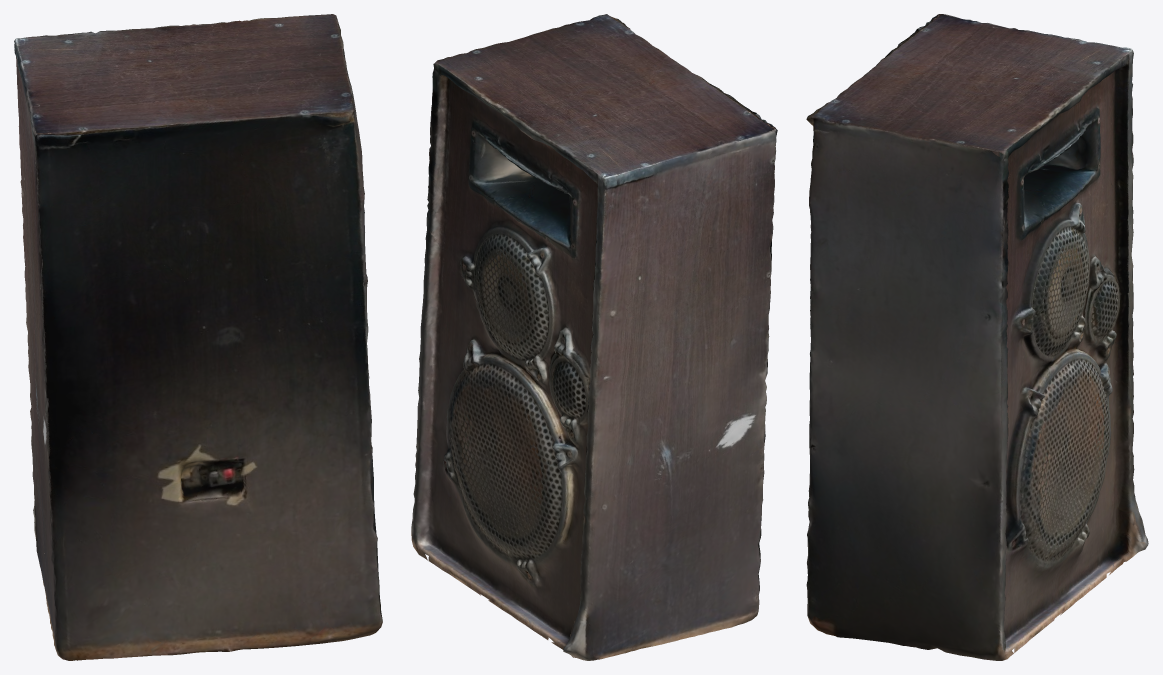
The model's file is equipolargobake.glb.
The picture shows the model from 3 angles, left to right: view 1: azimuth 30°, elevation 25°; view 2: azimuth 150°, elevation 25°; view 3: azimuth 270°, elevation 25°; orthographic projection. The views are drawn at different scales.
Visible parts, largest first — view 1: submesh; view 2: submesh; view 3: submesh.
Boxes of the visible parts, box(x1,y1,x2,y2) form: submesh: box(14, 14, 382, 660); submesh: box(411, 14, 777, 660); submesh: box(806, 14, 1148, 660).
Size of the model in its own units: 0.8335 by 1.21 by 0.727.
Materials: 1 (1 with a texture image).
